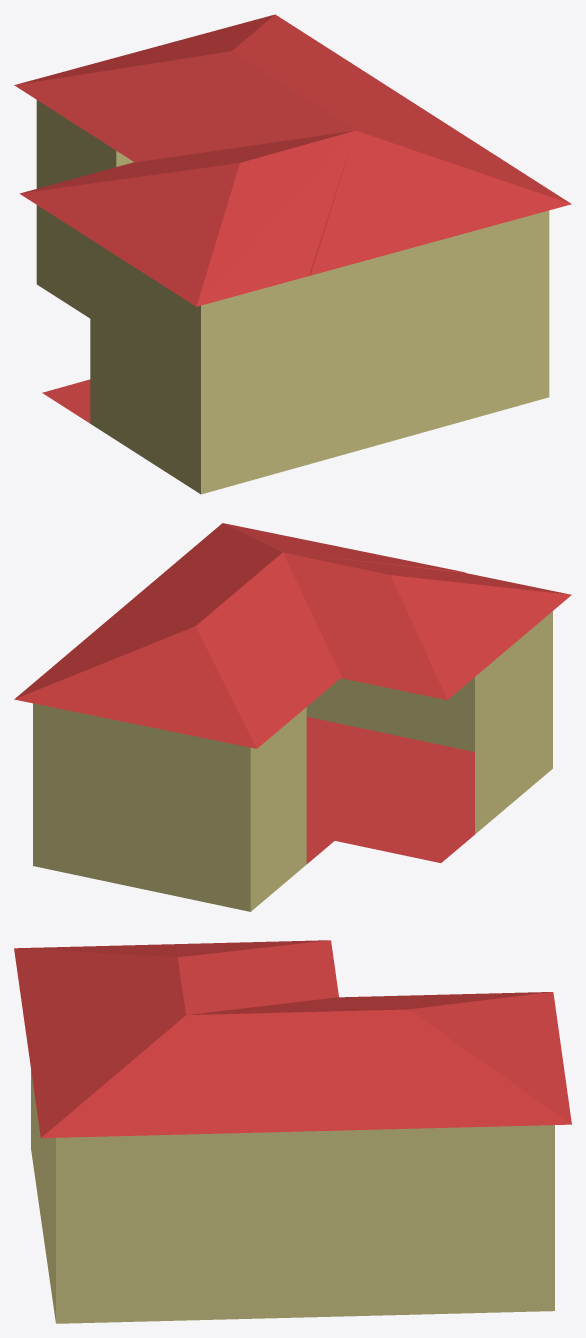
The picture shows the model from 3 angles, top to bottom: view 1: azimuth 30°, elevation 25°; view 2: azimuth 150°, elevation 25°; view 3: azimuth 270°, elevation 25°; orthographic projection. The views are drawn at different scales.
Size of the model in its own units: 14.31 by 17.23 by 8.42.
